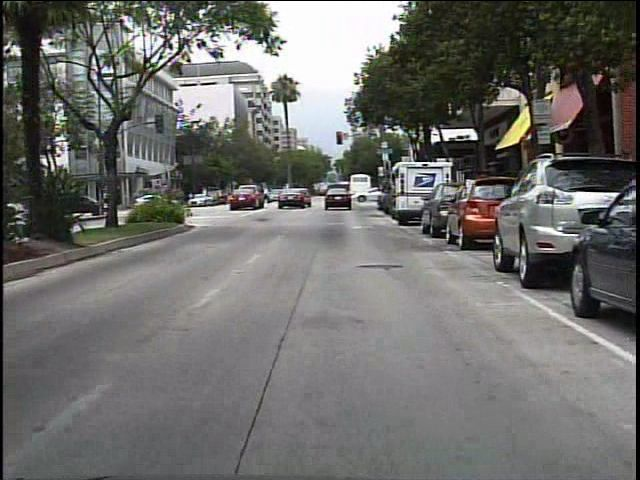person: (277, 183, 291, 205)
